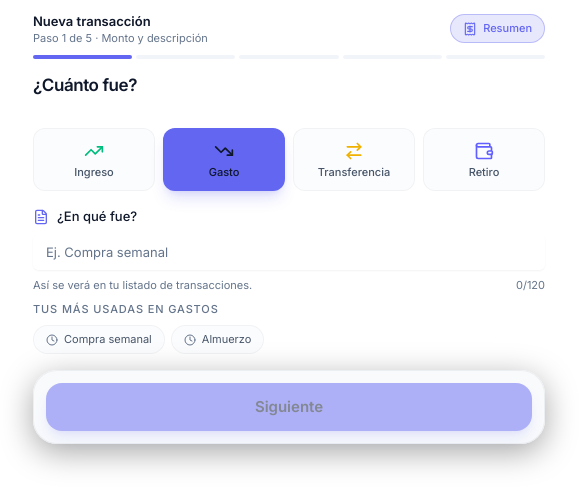
it: TransactionWizard — capture › fills the description from a frequent one with a single tap
Step 1. Click the button "Almuerzo" → (218, 340), box [171,325,264,354]
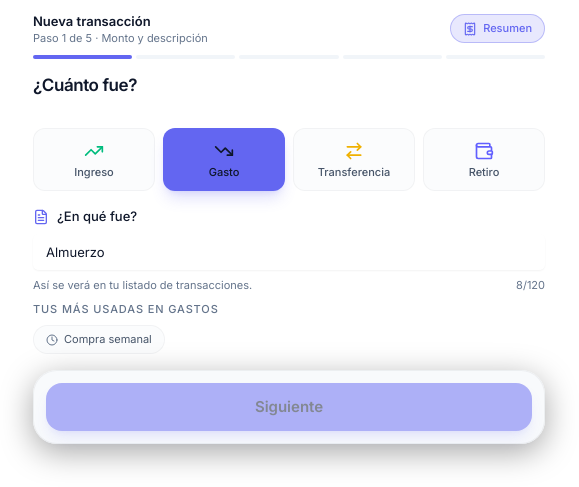
Check: the field with placeholder "Ej. Compra semanal" holds "Almuerzo", box [33,234,545,270]
